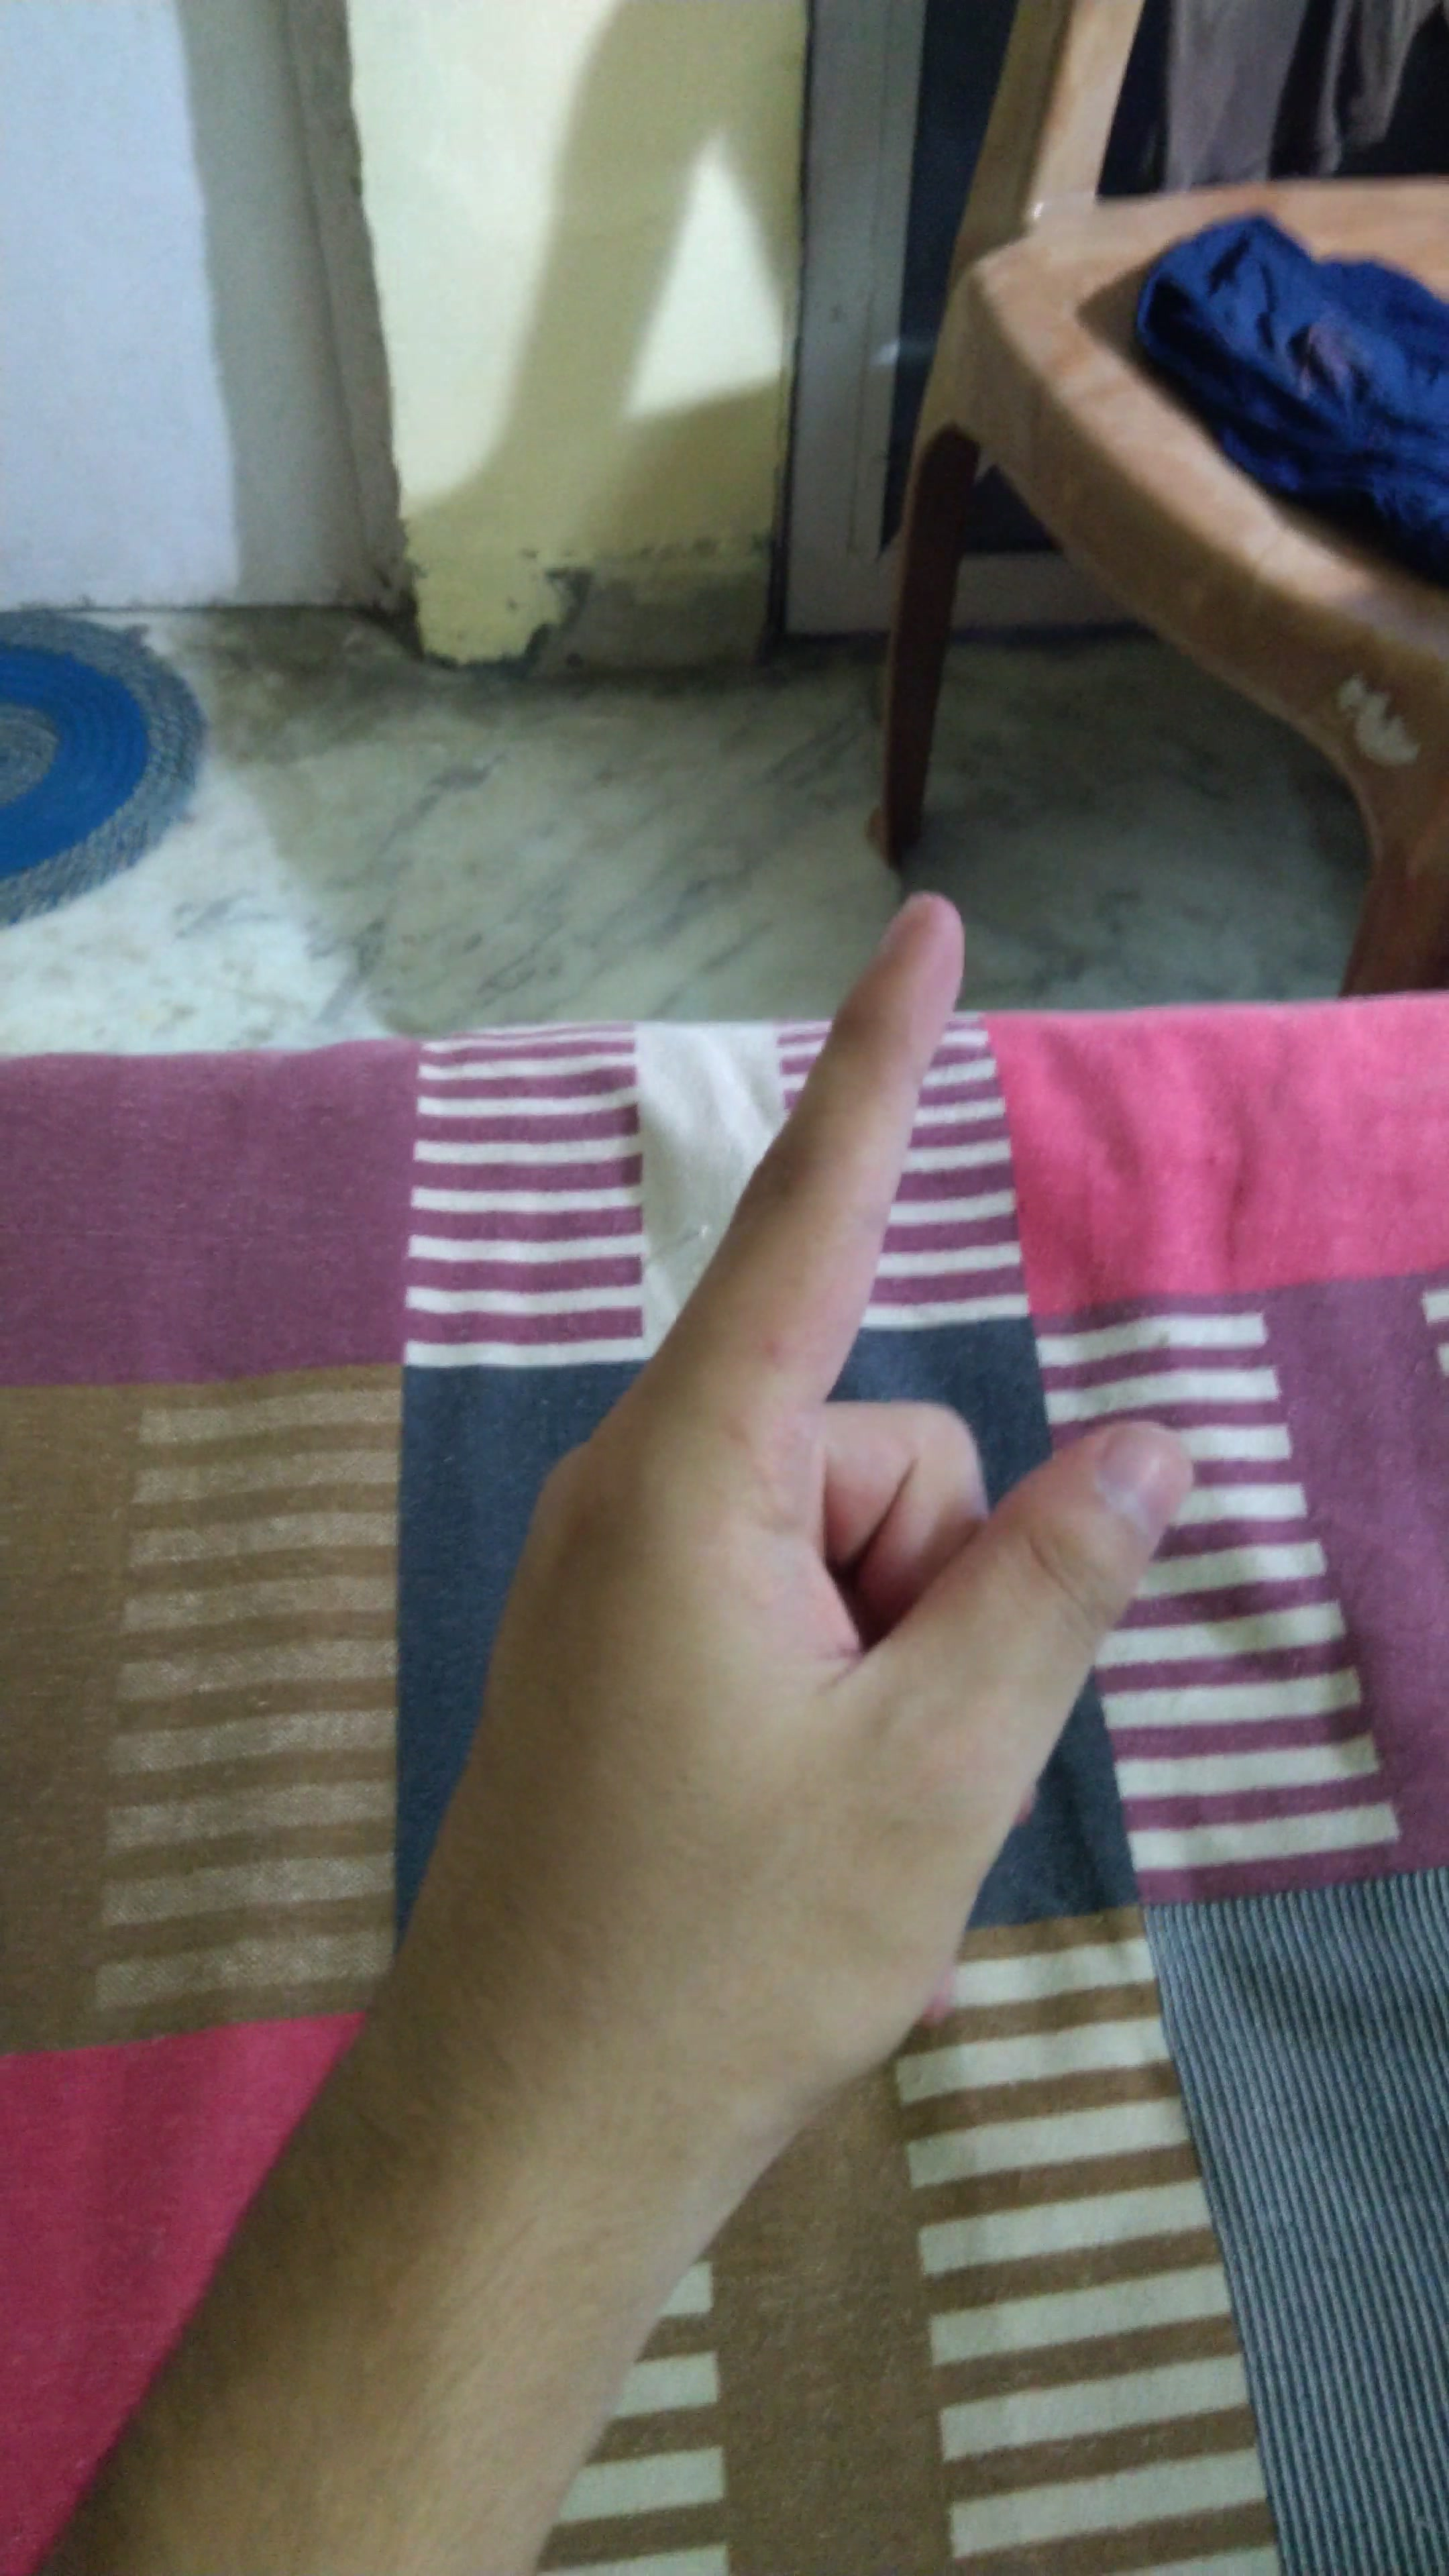hand: (308, 863, 1256, 2166)
